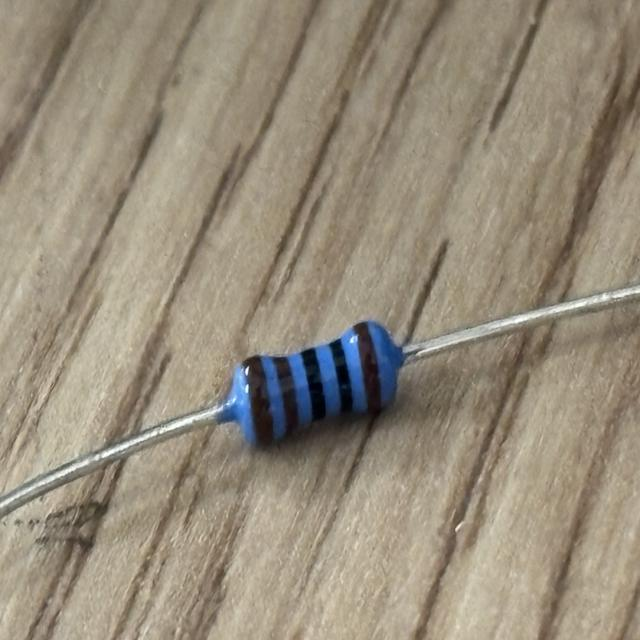resistor: (228, 318, 401, 453)
